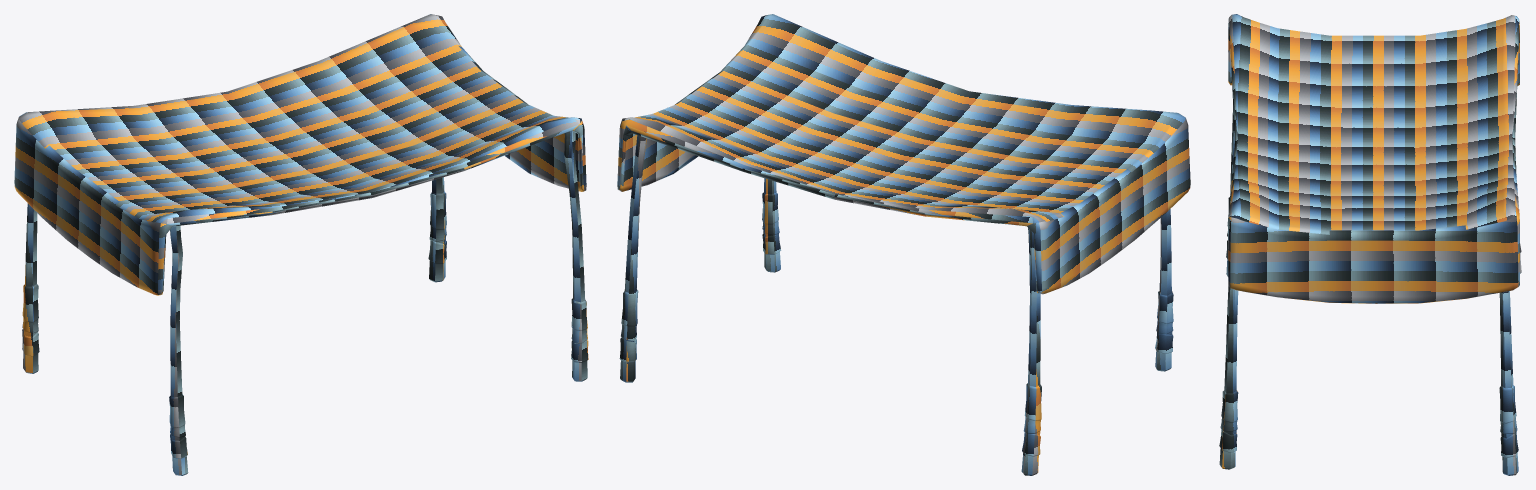
The model's file is CharSkyKid_Prop_AP10Tent_02.glb.
3 views of the same model, side by side, from view 1: azimuth 30°, elevation 25°; view 2: azimuth 150°, elevation 25°; view 3: azimuth 270°, elevation 25° (orthographic).
Visible parts, largest first — view 1: CharSkyKid_Prop_AP10Tent_02; view 2: CharSkyKid_Prop_AP10Tent_02; view 3: CharSkyKid_Prop_AP10Tent_02.
Part boxes in pixels (bbox=[...]): CharSkyKid_Prop_AP10Tent_02: bbox=[14, 14, 588, 475]; CharSkyKid_Prop_AP10Tent_02: bbox=[617, 14, 1190, 475]; CharSkyKid_Prop_AP10Tent_02: bbox=[1219, 14, 1521, 475].
Bounding box in the file's own units: 6.14 × 3.6 × 3.78.
Materials: 1 (1 with a texture image).
